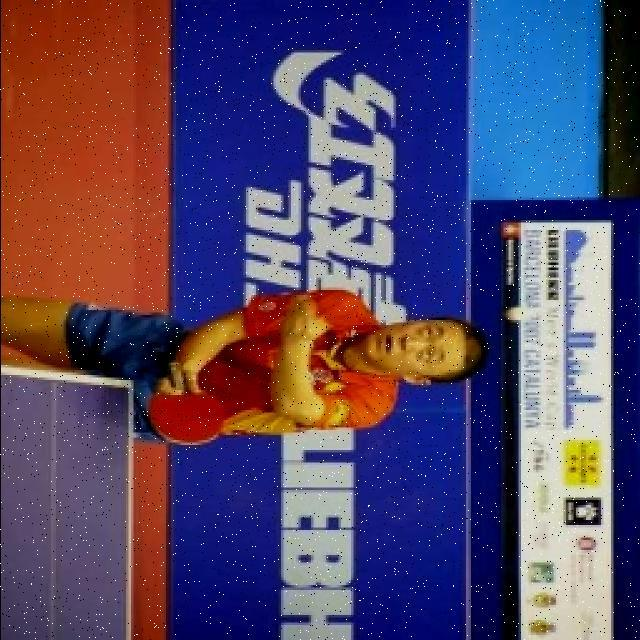ping-pong-ball: (502, 300, 532, 325)
